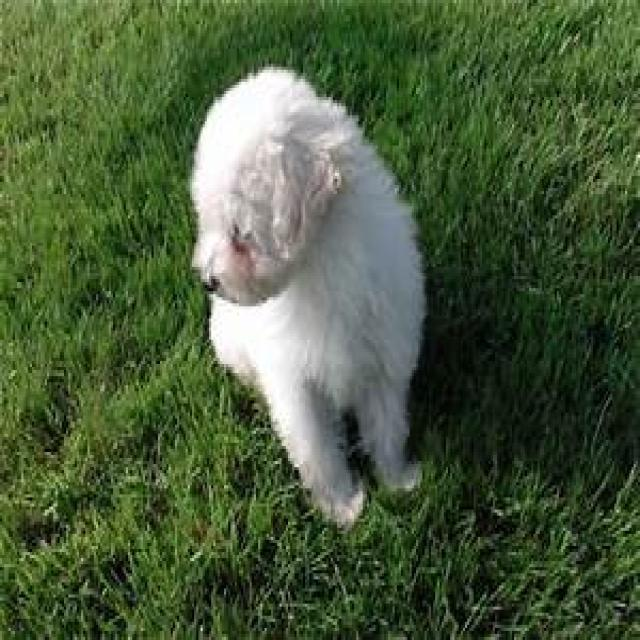dog: (188, 64, 426, 531)
